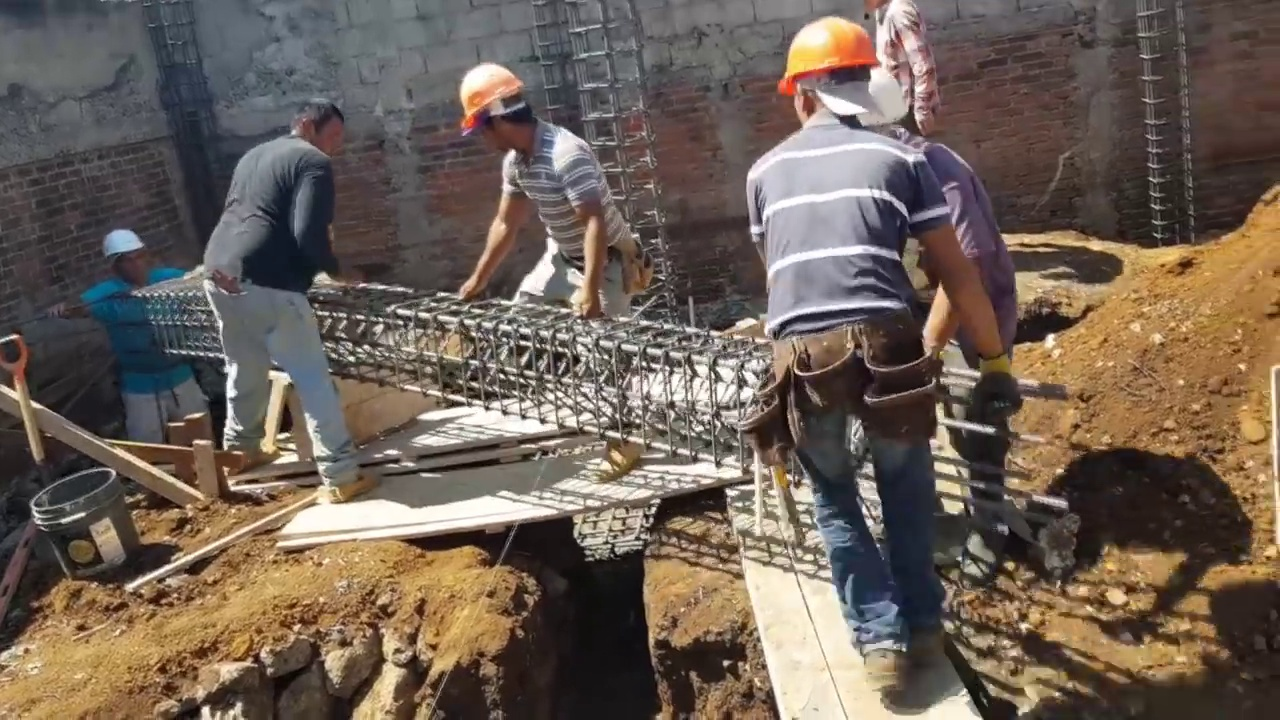helmet: (784, 10, 887, 86), (454, 62, 525, 130), (99, 225, 146, 258)
helmet-off: (283, 100, 342, 161)
helmet-on: (774, 15, 886, 135), (452, 60, 537, 156), (97, 228, 146, 285)
person: (744, 21, 1018, 699), (203, 103, 366, 506), (897, 132, 1033, 593), (447, 71, 635, 325), (71, 223, 210, 448), (859, 0, 940, 142)
